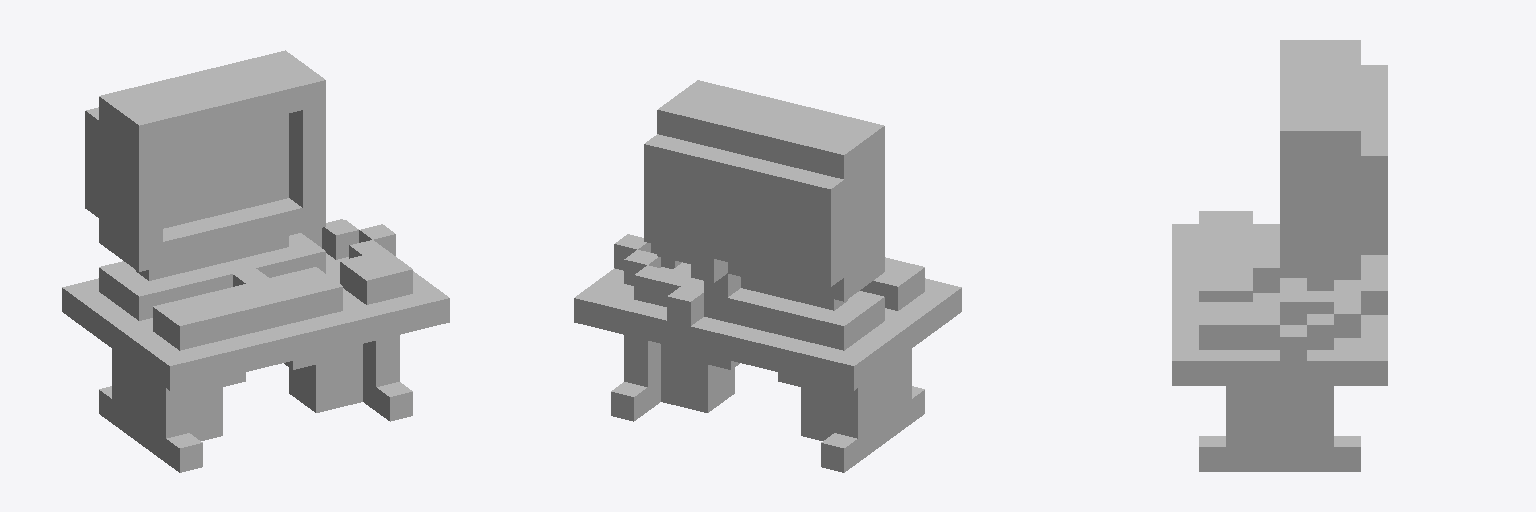
The model's file is computer.obj.
3 views of the same model, side by side, from view 1: azimuth 30°, elevation 25°; view 2: azimuth 150°, elevation 25°; view 3: azimuth 270°, elevation 25° (orthographic).
Parts seen in each view (by area): view 1: object 1; view 2: object 1; view 3: object 1.
Boxes of the visible parts, x1=… form: object 1: x1=62, y1=50, x2=449, y2=472; object 1: x1=574, y1=80, x2=961, y2=472; object 1: x1=1172, y1=40, x2=1387, y2=471.
Bounding box in the file's own units: 1.2 × 1.3 × 0.8.